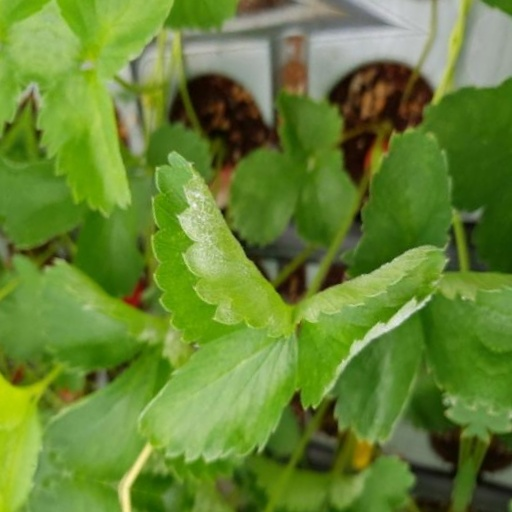Powdery Mildew Leaf: (139, 153, 308, 340), (304, 116, 446, 307)
